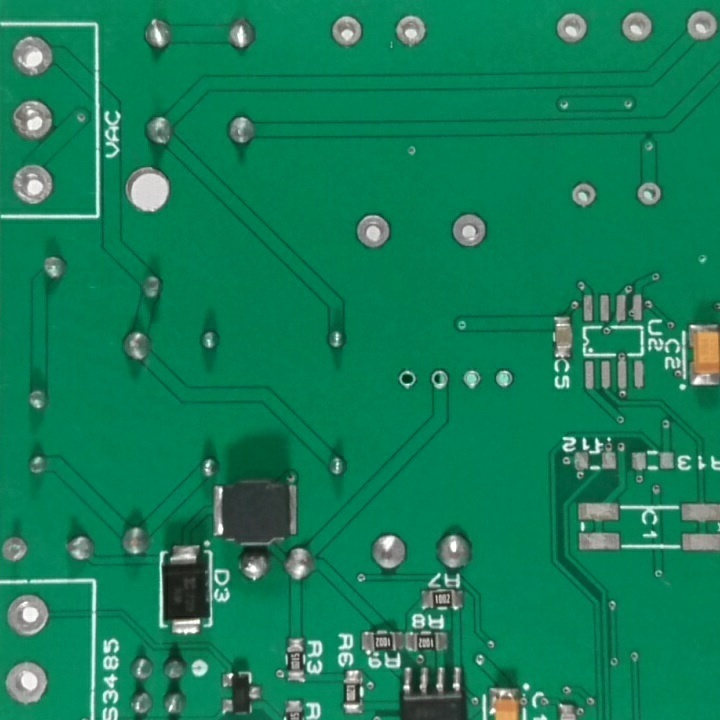F: (2, 589, 53, 639), (4, 658, 52, 709), (9, 161, 58, 209), (10, 32, 58, 79), (7, 97, 57, 141), (390, 11, 433, 53), (450, 209, 490, 251), (352, 212, 393, 252), (325, 14, 367, 53), (552, 8, 590, 50), (617, 10, 656, 47), (684, 6, 720, 46), (1, 535, 33, 571), (568, 178, 600, 210), (634, 178, 663, 209), (491, 368, 518, 395), (459, 367, 485, 393), (426, 369, 452, 394), (396, 368, 420, 395)
